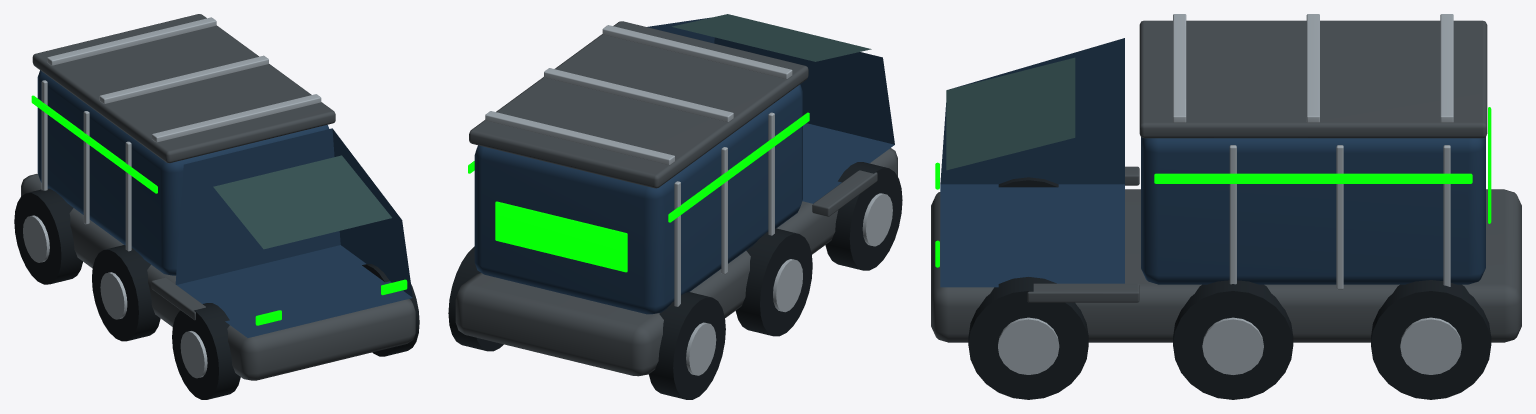
File: relief_hauler.glb
3 renders of one model, left to right at view 1: azimuth 30°, elevation 25°; view 2: azimuth 150°, elevation 25°; view 3: azimuth 270°, elevation 25°, orthographic. The views are drawn at different scales.
Parts seen in each view (by area): view 1: Blue TruFi freight enamel, Brushed dark alloy, Smoked safety glass, Machined light alloy, Wheel_L0_Deep rubber and vents, Wheel_L1_Deep rubber and vents, Wheel_L2_Deep rubber and vents, Friendly liquidity #00FF00, Wheel_L2_Machined light alloy, Wheel_L1_Machined light alloy, Wheel_L0_Machined light alloy, Wheel_R2_Deep rubber and vents; view 2: Blue TruFi freight enamel, Brushed dark alloy, Machined light alloy, Friendly liquidity #00FF00, Wheel_L1_Deep rubber and vents, Wheel_L0_Deep rubber and vents, Wheel_L2_Deep rubber and vents, Smoked safety glass, Wheel_R0_Deep rubber and vents, Wheel_L2_Machined light alloy, Wheel_L0_Machined light alloy, Wheel_L1_Machined light alloy; view 3: Blue TruFi freight enamel, Brushed dark alloy, Smoked safety glass, Wheel_R0_Deep rubber and vents, Wheel_R1_Deep rubber and vents, Wheel_R2_Deep rubber and vents, Machined light alloy, Friendly liquidity #00FF00, Wheel_R1_Machined light alloy, Wheel_R2_Machined light alloy, Wheel_R0_Machined light alloy.
Boxes of the visible parts, x1,y1,x2,y2 form: Blue TruFi freight enamel: (37, 70, 412, 337); Brushed dark alloy: (21, 14, 415, 380); Smoked safety glass: (213, 155, 391, 249); Machined light alloy: (41, 17, 321, 251); Wheel_L0_Deep rubber and vents: (14, 188, 82, 284); Wheel_L1_Deep rubber and vents: (92, 245, 160, 341); Wheel_L2_Deep rubber and vents: (172, 303, 240, 399); Friendly liquidity #00FF00: (31, 95, 407, 325); Wheel_L2_Machined light alloy: (180, 331, 207, 378); Wheel_L1_Machined light alloy: (100, 272, 127, 319); Wheel_L0_Machined light alloy: (23, 215, 49, 262); Wheel_R2_Deep rubber and vents: (362, 264, 419, 356); Blue TruFi freight enamel: (474, 17, 894, 314); Brushed dark alloy: (455, 21, 897, 376); Machined light alloy: (485, 25, 792, 306); Friendly liquidity #00FF00: (468, 112, 809, 272); Wheel_L1_Deep rubber and vents: (735, 228, 812, 336); Wheel_L0_Deep rubber and vents: (649, 292, 725, 399); Wheel_L2_Deep rubber and vents: (825, 162, 902, 270); Smoked safety glass: (672, 14, 871, 61); Wheel_R0_Deep rubber and vents: (448, 246, 503, 351); Wheel_L2_Machined light alloy: (862, 193, 892, 246); Wheel_L0_Machined light alloy: (686, 322, 716, 375); Wheel_L1_Machined light alloy: (773, 259, 802, 312); Blue TruFi freight enamel: (940, 38, 1485, 287); Brushed dark alloy: (931, 20, 1521, 342); Smoked safety glass: (946, 57, 1075, 170); Wheel_R0_Deep rubber and vents: (1371, 280, 1491, 399); Wheel_R1_Deep rubber and vents: (1173, 280, 1293, 399); Wheel_R2_Deep rubber and vents: (968, 277, 1088, 399); Machined light alloy: (1173, 14, 1453, 289); Friendly liquidity #00FF00: (935, 107, 1491, 267); Wheel_R1_Machined light alloy: (1202, 317, 1263, 374); Wheel_R2_Machined light alloy: (998, 317, 1059, 374); Wheel_R0_Machined light alloy: (1400, 317, 1461, 374).
Size of the model in its own units: 2.28 by 2.25 by 4.42.
